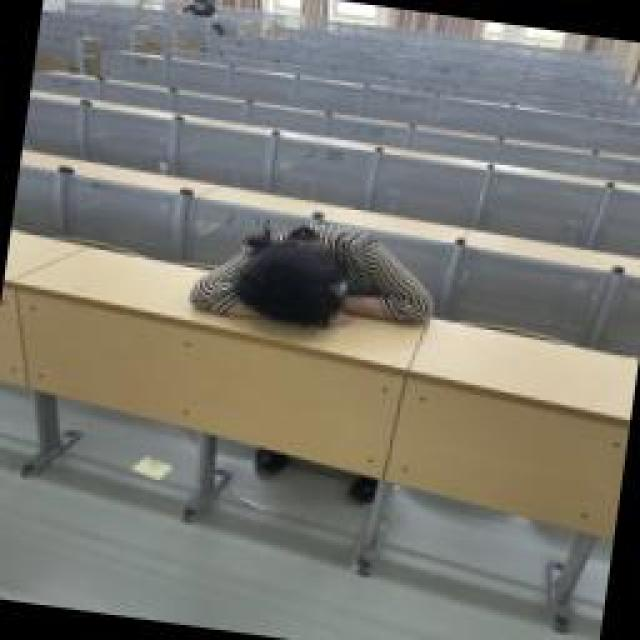sleep: (188, 205, 438, 357)
study: (188, 0, 218, 15)
